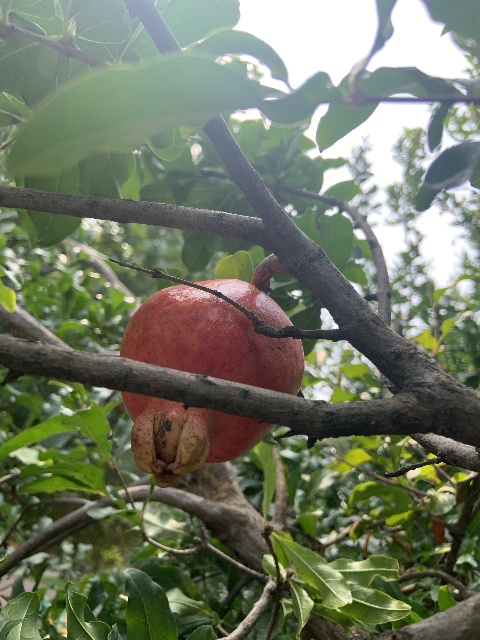ripe: (118, 278, 303, 482)
